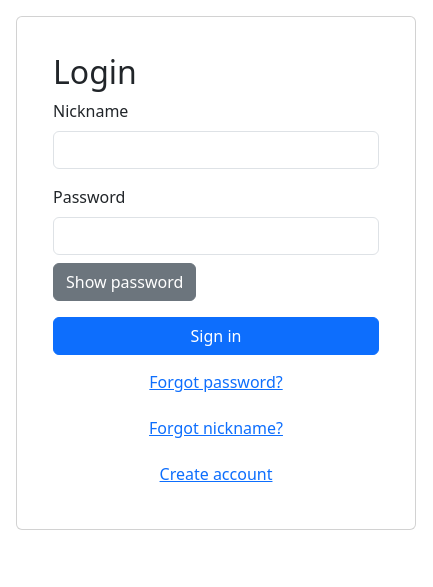
Test: Login page › shows an error when the API response is invalid
Type "pedro" into the field labelled "Nickname" at (216, 150), box 53,131 -> 379,169
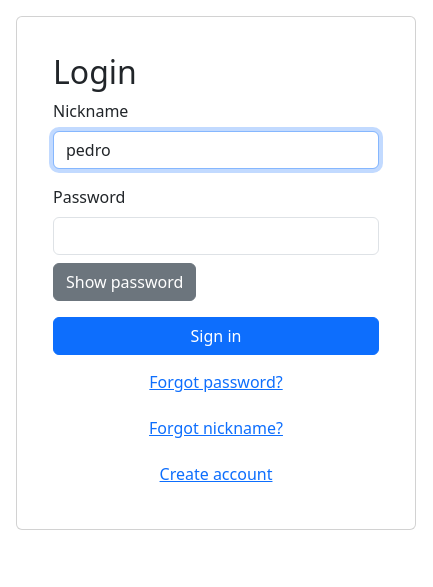
Type "secret" into the password field labelled "Password" at (216, 236), box 53,217 -> 379,255
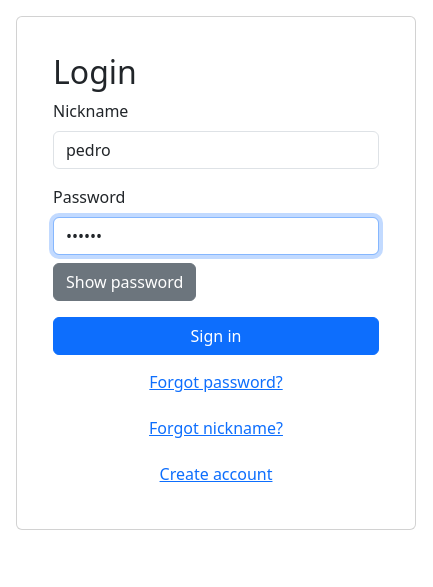
Click the button "Sign in" at (216, 336), box 53,317 -> 379,355
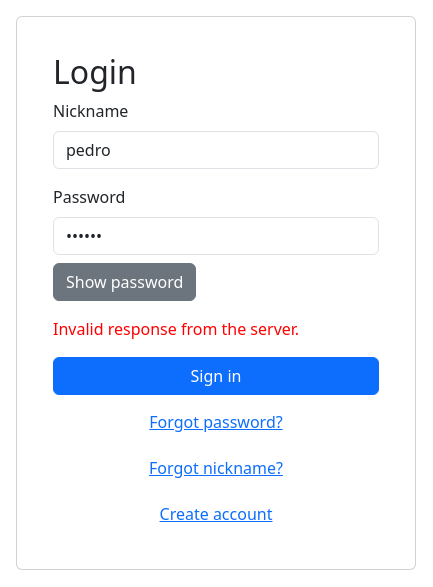
Expected: the text "Invalid response from the server." is shown, 53,318 -> 299,340
